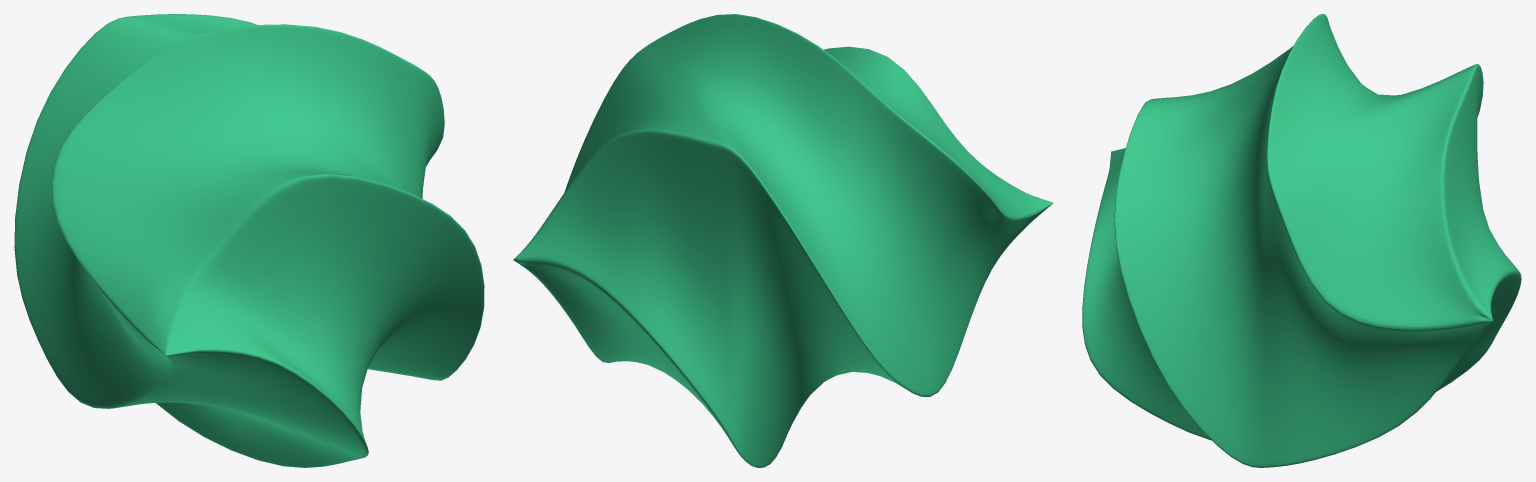
Rendered from Twist.gltf.
3 views of the same model, side by side, from view 1: azimuth 30°, elevation 25°; view 2: azimuth 150°, elevation 25°; view 3: azimuth 270°, elevation 25° (orthographic). The views are drawn at different scales.
Parts seen in each view (by area): view 1: Plane.001; view 2: Plane.001; view 3: Plane.001.
Boxes of the visible parts, x1,y1,x2,y2 form: Plane.001: (14, 14, 484, 467); Plane.001: (513, 14, 1053, 467); Plane.001: (1082, 14, 1521, 467).
Bounding box in the file's own units: 3.2 × 3.24 × 3.15.
